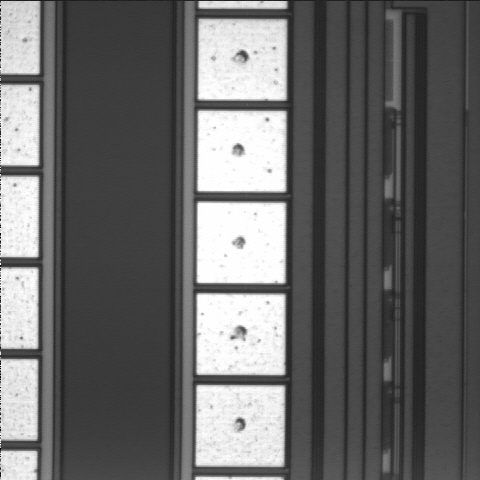pad: (198, 19, 287, 101), (196, 385, 285, 467), (197, 293, 285, 375), (197, 111, 286, 192), (197, 202, 286, 283)
